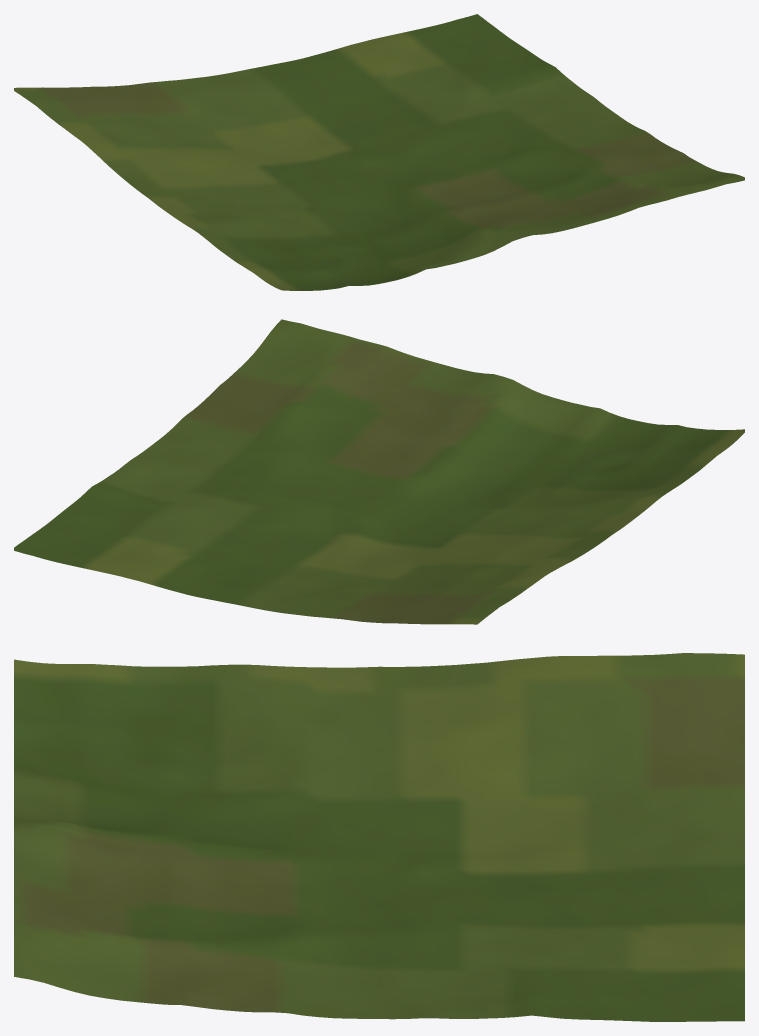
The model's file is land_m_07_08.glb.
3 views of the same model, one above another, from view 1: azimuth 30°, elevation 25°; view 2: azimuth 150°, elevation 25°; view 3: azimuth 270°, elevation 25° (orthographic). The views are drawn at different scales.
Visible parts, largest first — view 1: land_m_07_08; view 2: land_m_07_08; view 3: land_m_07_08.
Boxes of the visible parts, x1=… form: land_m_07_08: x1=14, y1=14, x2=744, y2=290; land_m_07_08: x1=14, y1=319, x2=744, y2=624; land_m_07_08: x1=14, y1=653, x2=744, y2=1021.
Size of the model in its own units: 960 by 91.75 by 960.
